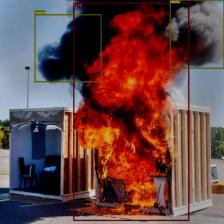fire: (73, 2, 189, 221)
smoke: (34, 14, 101, 82), (169, 0, 224, 68)
